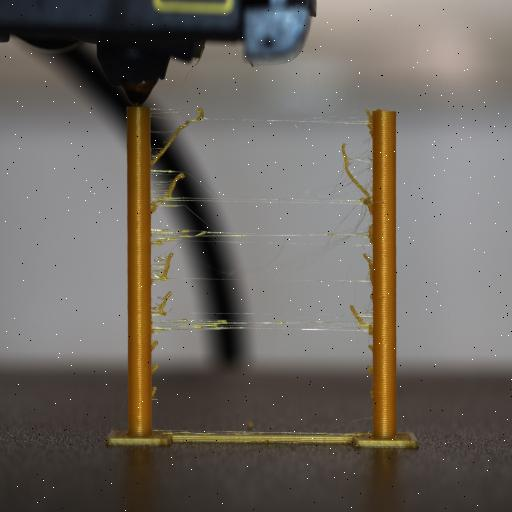stringing: (150, 318, 373, 338), (150, 106, 208, 170), (338, 141, 372, 217), (152, 174, 194, 220), (152, 248, 178, 284), (359, 219, 373, 247), (150, 363, 158, 377)
